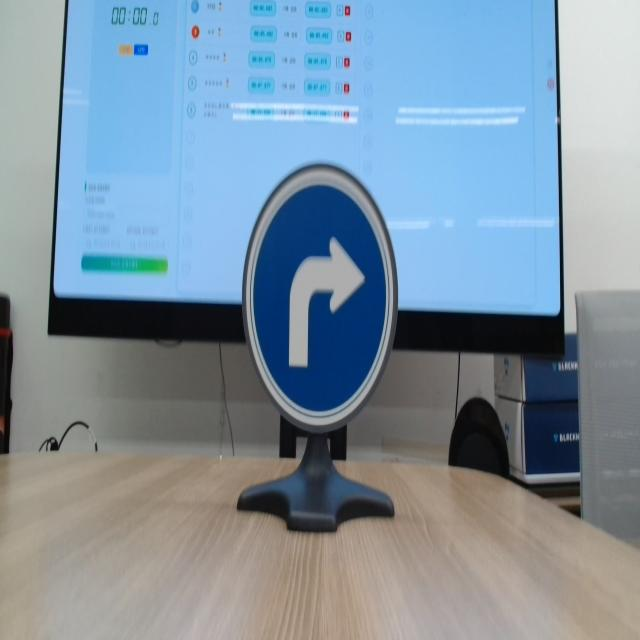right_dierection: (228, 162, 406, 440)
